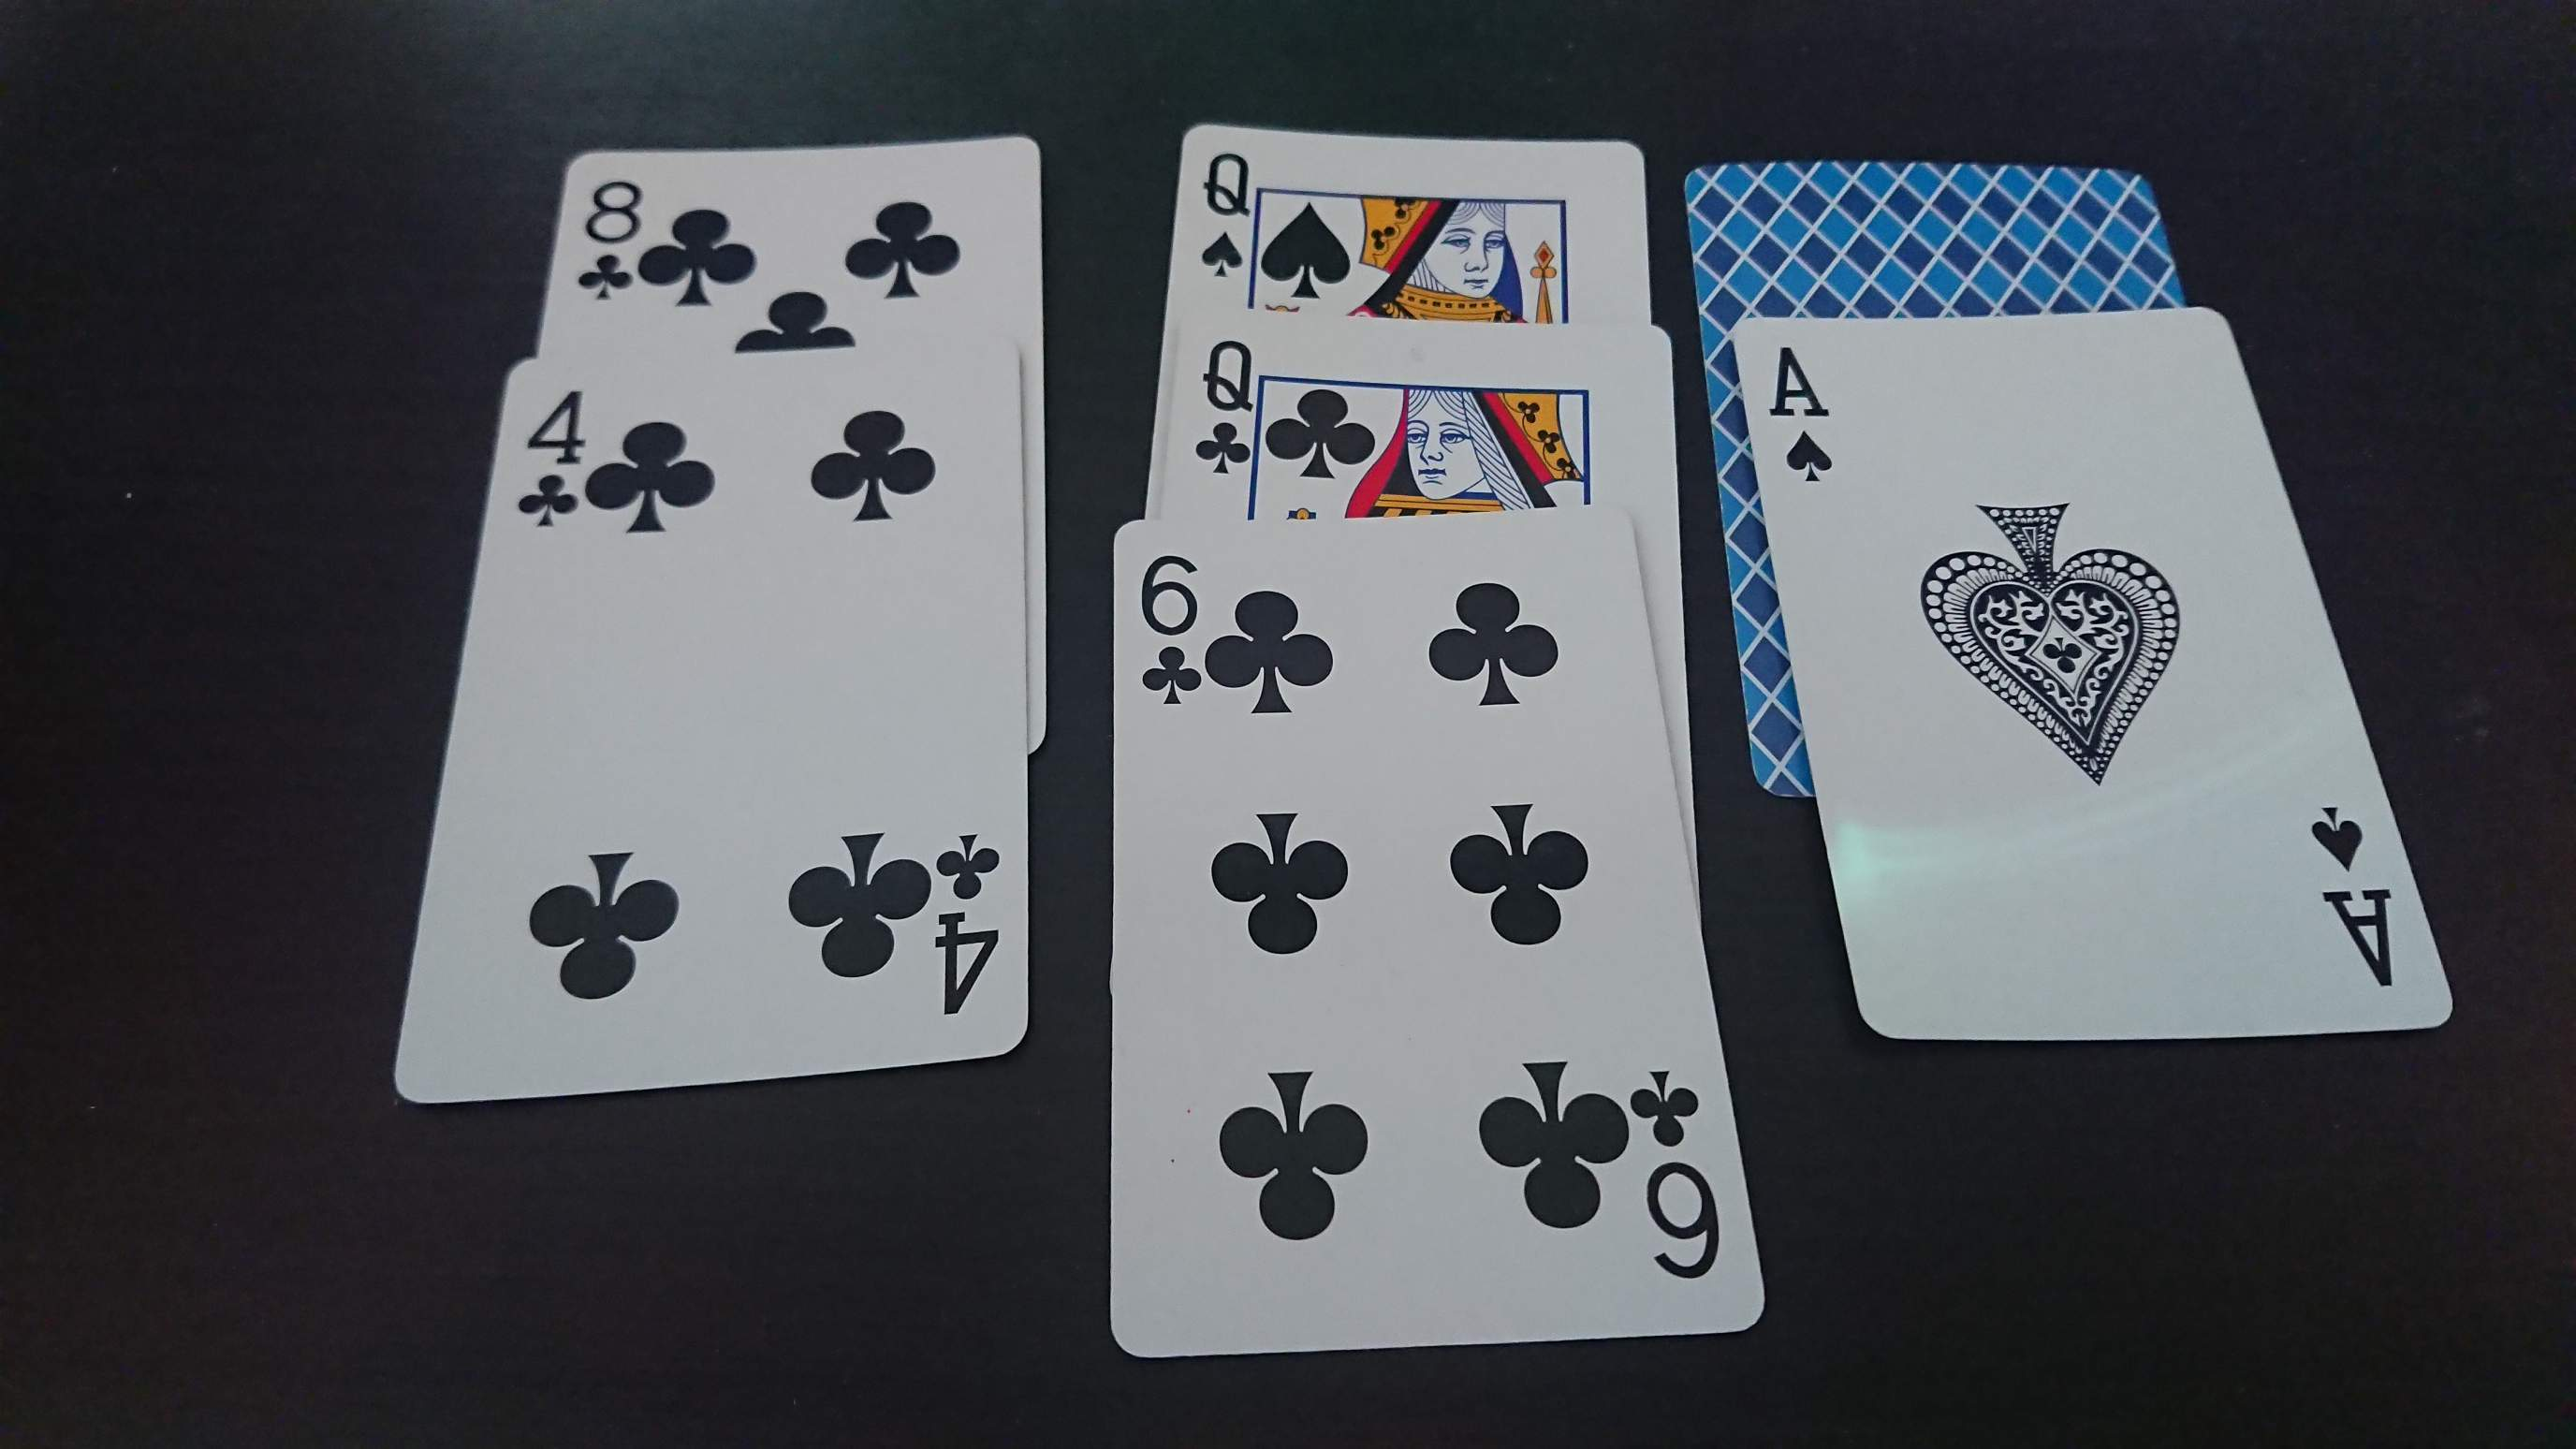4C: (511, 387, 589, 529)
6C: (1138, 552, 1203, 708)
8C: (575, 177, 648, 303)
AS: (1766, 343, 1840, 487)
BACK: (1683, 163, 2189, 311)
QC: (1194, 338, 1256, 478)
QS: (1200, 150, 1253, 280)
